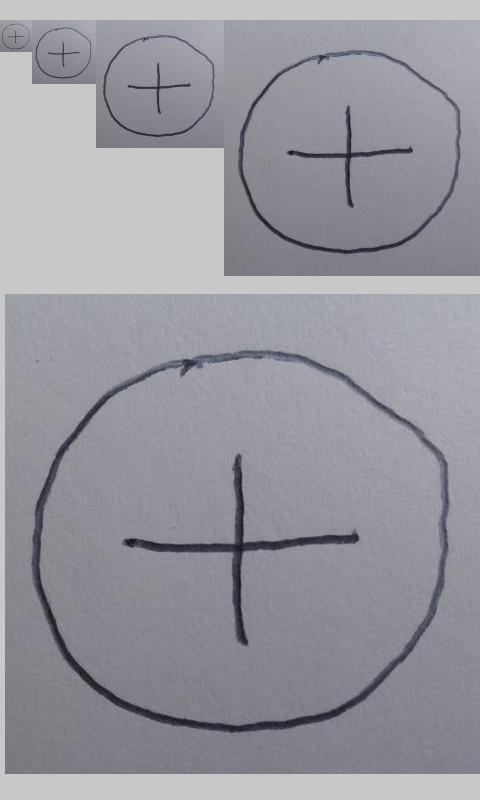button: (28, 346, 453, 736), (237, 48, 462, 255), (103, 34, 216, 138), (35, 27, 93, 79), (1, 23, 31, 50)
